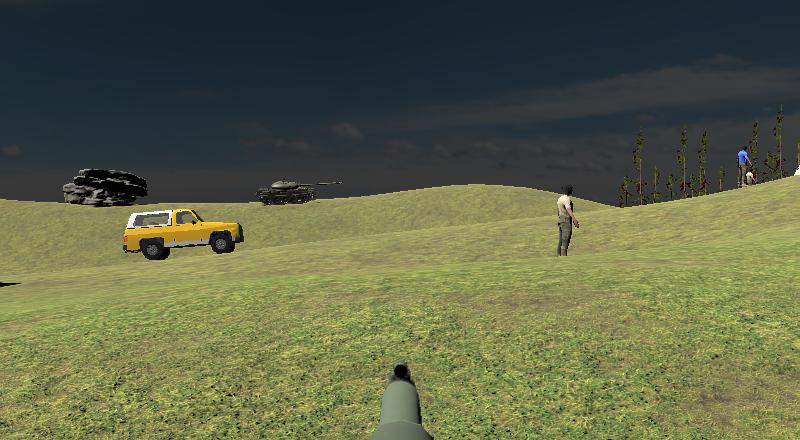Human: (554, 184, 582, 266), (736, 143, 752, 189)
Tank: (256, 178, 342, 207)
car: (123, 207, 244, 261)
